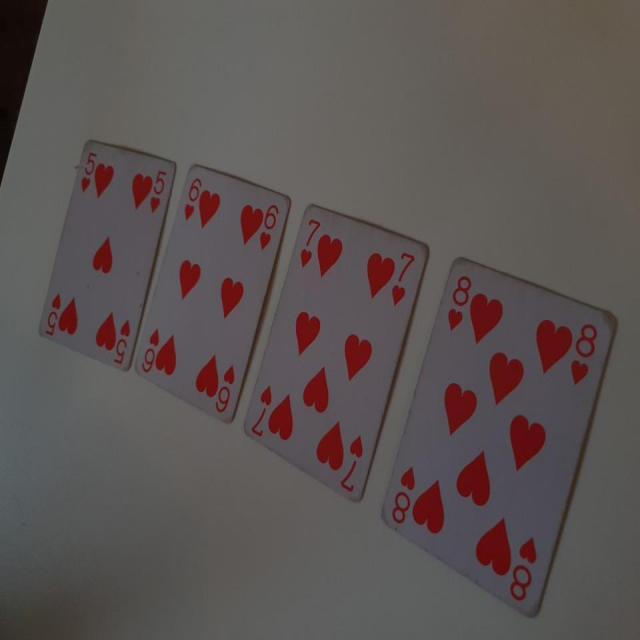5 of hearts: (35, 136, 186, 383)
6 of hearts: (132, 160, 302, 428)
7 of hearts: (232, 198, 440, 510)
8 of hearts: (382, 252, 622, 624)
